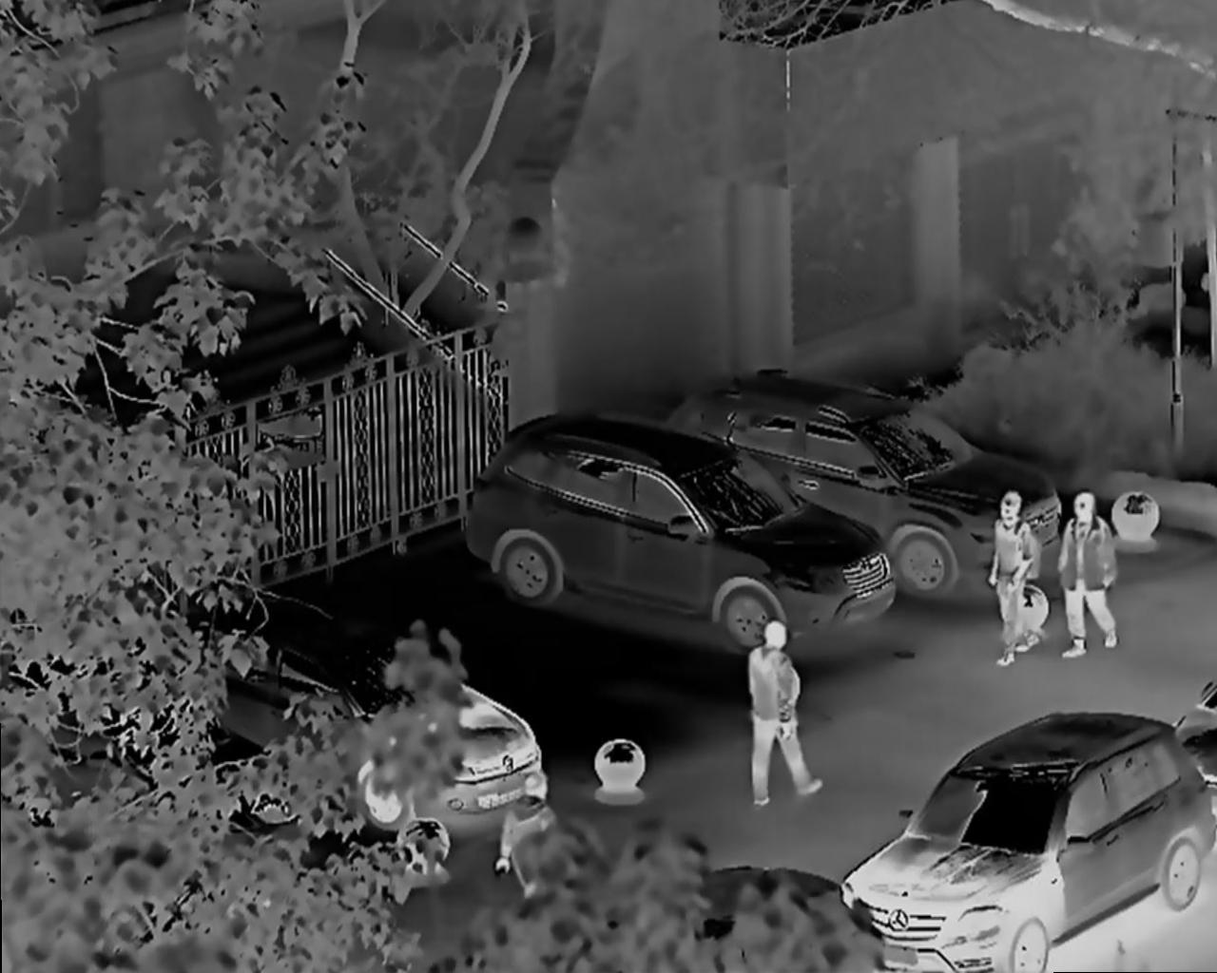person: (736, 621, 833, 808), (1054, 484, 1127, 661), (987, 491, 1046, 677), (493, 759, 570, 878)
